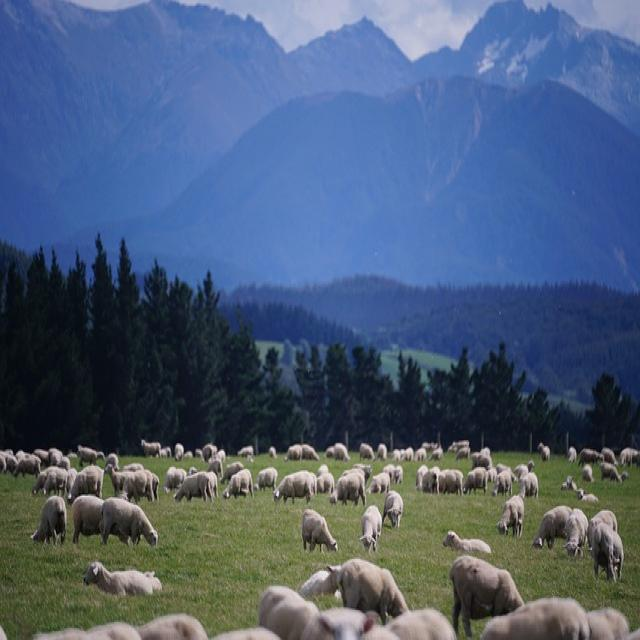goat: (450, 556, 524, 636), (338, 560, 409, 624), (103, 498, 158, 546), (84, 562, 162, 594), (591, 524, 624, 580), (31, 496, 66, 546), (532, 505, 571, 548), (304, 509, 338, 552), (72, 496, 102, 544), (274, 471, 316, 503), (68, 466, 104, 502), (300, 566, 341, 597), (329, 471, 365, 505), (565, 509, 589, 558), (496, 496, 524, 537), (174, 471, 212, 501), (31, 466, 68, 496), (442, 531, 491, 553), (588, 509, 617, 546), (360, 505, 382, 552), (124, 471, 154, 502), (222, 472, 253, 500), (382, 490, 404, 528), (105, 466, 129, 497), (254, 468, 278, 490), (78, 445, 104, 465)
